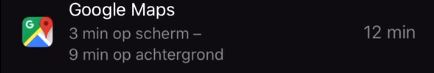name: (65, 1, 182, 23)
time: (67, 46, 112, 67), (67, 25, 111, 44)
